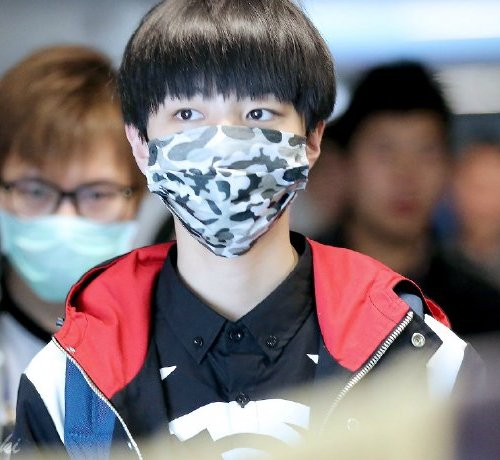face: (350, 111, 444, 233)
face_mask: (152, 52, 307, 257), (3, 129, 139, 300)
